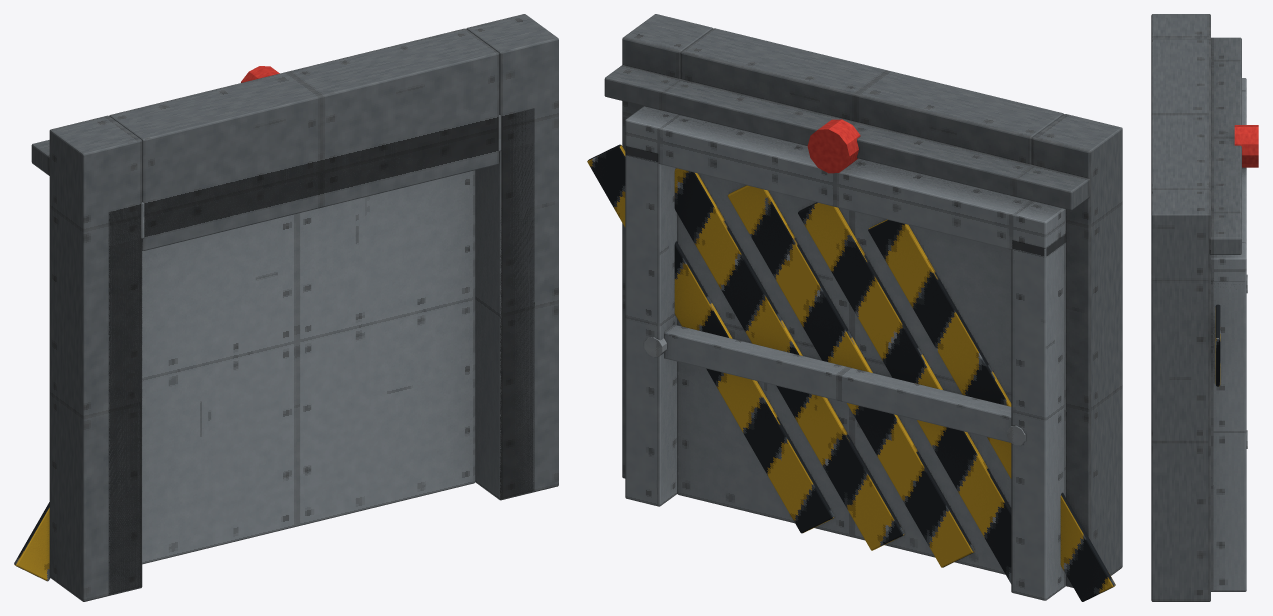
File: base_sealed_door.glb
The picture shows the model from 3 angles, left to right: view 1: azimuth 30°, elevation 25°; view 2: azimuth 150°, elevation 25°; view 3: azimuth 270°, elevation 25°; orthographic projection. The views are drawn at different scales.
Visible parts, largest first — view 1: base_sealed_door; view 2: base_sealed_door; view 3: base_sealed_door.
Part boxes in pixels (left/top/right/bottom): base_sealed_door: left=14, top=14, right=558, bottom=601; base_sealed_door: left=587, top=14, right=1122, bottom=601; base_sealed_door: left=1151, top=14, right=1258, bottom=601.
Size of the model in its own units: 4.5 by 3.65 by 0.9.
Materials: 5 (5 with a texture image).
